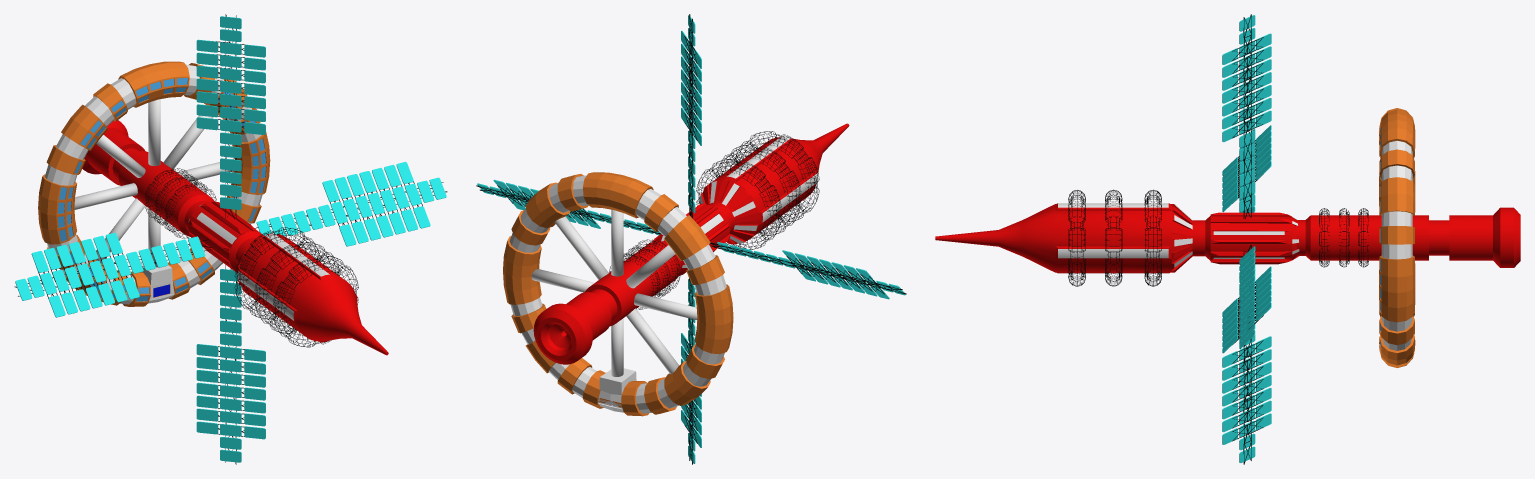
File: station2.fbx
The picture shows the model from 3 angles, left to right: view 1: azimuth 30°, elevation 25°; view 2: azimuth 150°, elevation 25°; view 3: azimuth 270°, elevation 25°; orthographic projection.
Visible parts, largest first — view 1: Solar, Ring, RingBase, RingConnectors; view 2: Ring, Solar, RingBase, RingConnectors; view 3: Solar, RingBase, Ring.
Part boxes in pixels (left/top/right/bottom): Solar: left=14, top=14, right=447, bottom=464; Ring: left=38, top=61, right=270, bottom=306; RingBase: left=82, top=120, right=216, bottom=238; RingConnectors: left=74, top=99, right=234, bottom=267; Ring: left=503, top=172, right=733, bottom=416; Solar: left=476, top=14, right=906, bottom=464; RingBase: left=533, top=239, right=683, bottom=364; RingConnectors: left=531, top=209, right=697, bottom=376; Solar: left=935, top=14, right=1299, bottom=464; RingBase: left=1296, top=207, right=1520, bottom=267; Ring: left=1379, top=108, right=1415, bottom=367.
Size of the model in its own units: 165126 by 165126 by 195588.
